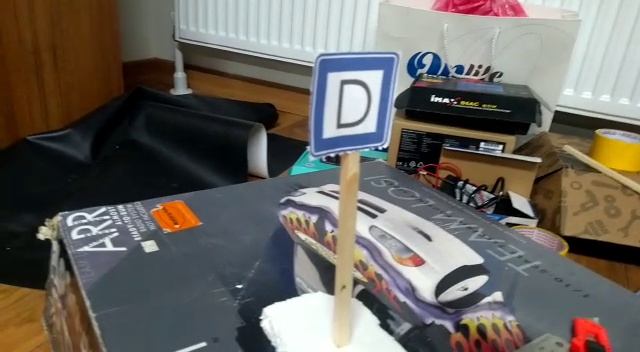durak: (314, 63, 387, 152)
